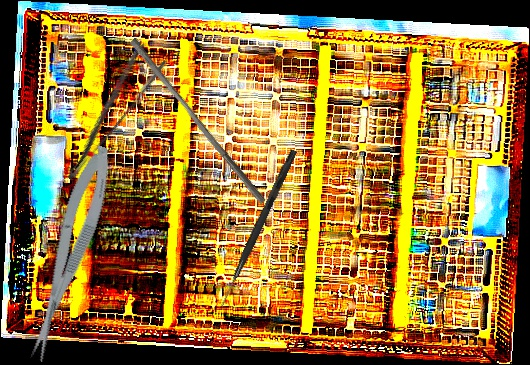Dressing Forceps: (46, 42, 170, 183)
Hook Surgical: (218, 148, 298, 309)
Micro Scissor: (15, 141, 122, 365)
Pusher: (123, 37, 273, 205)
